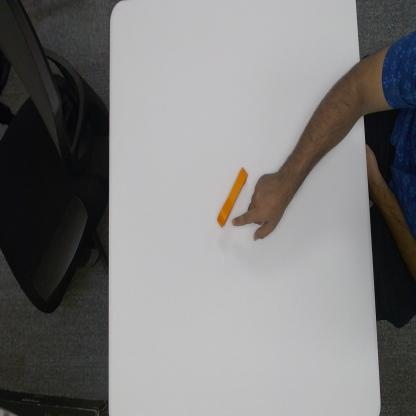Arm: (280, 65, 364, 202)
Hand: (232, 174, 288, 243)
Screwdriver: (218, 166, 247, 227)
